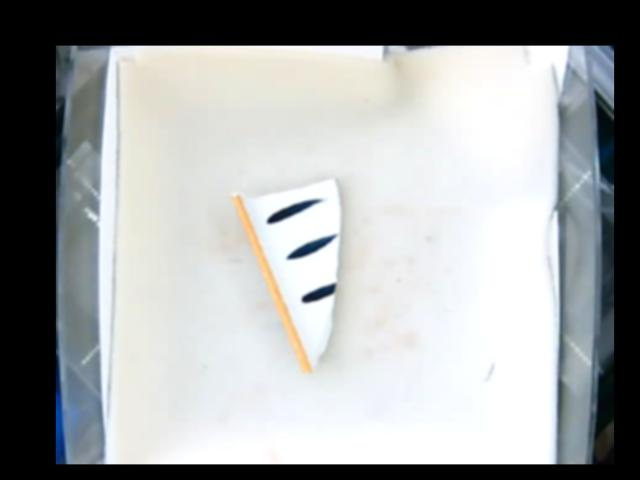China: (232, 176, 341, 372)
